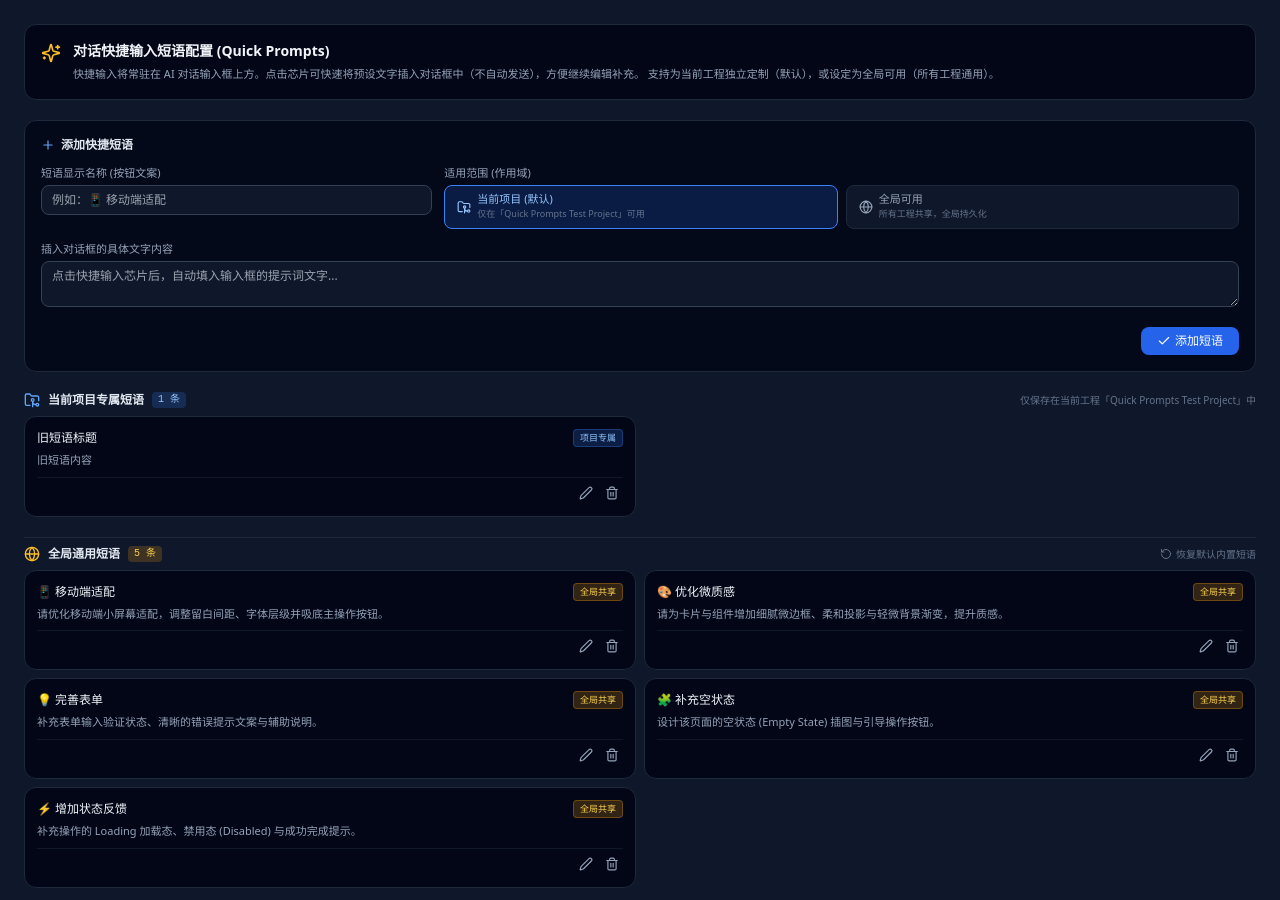
it: Chat Quick Prompts (对话快捷输入与分级配置) › CHK-F-06: 修改与删除快捷短语
The width and height of the screenshot is (1280, 900).
What coordinates should you click on to do the following:
click the 1st button titled "删除该短语"
I would click on:
 (612, 492)
Its box is [601,482,623,504].
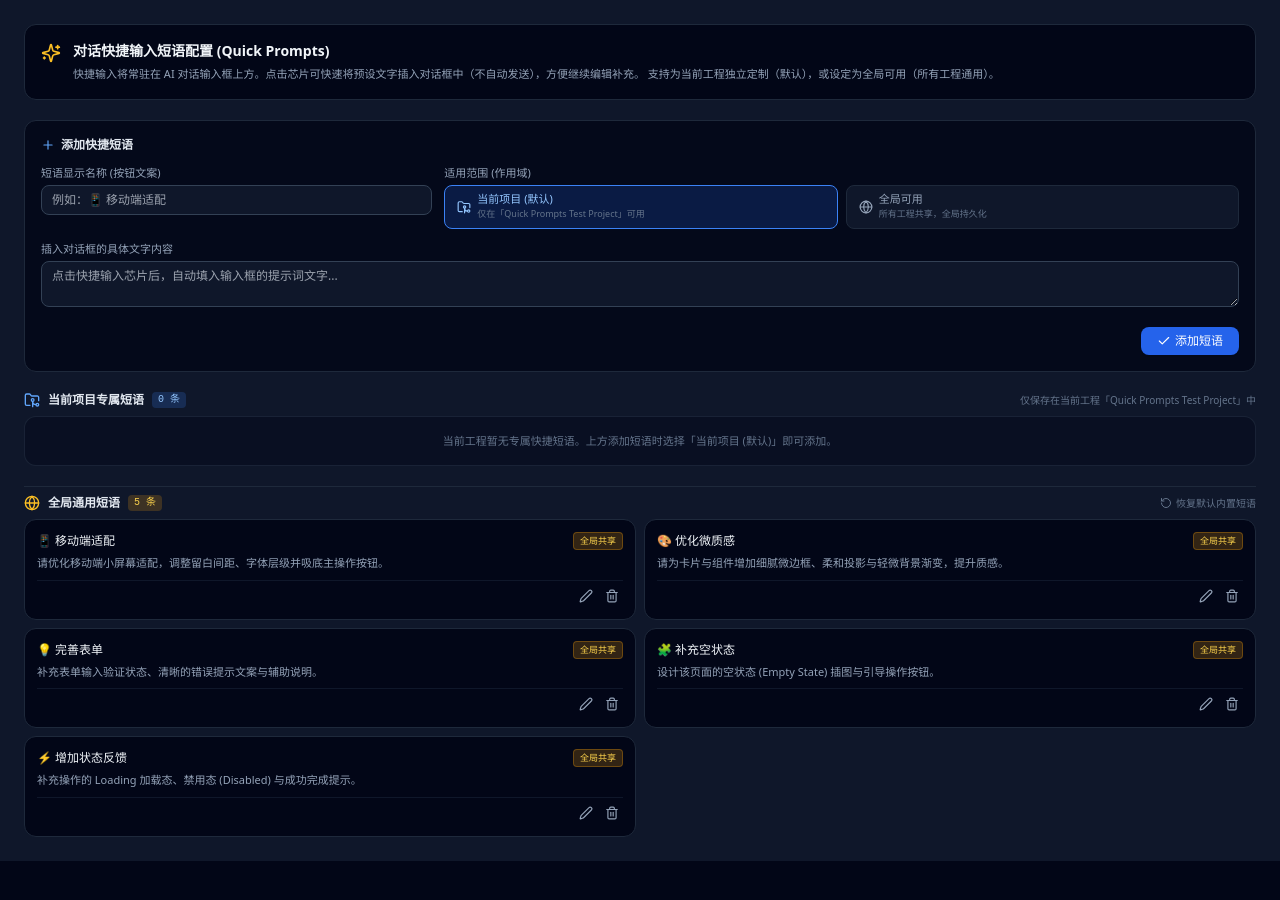
Now the text "旧短语标题" is gone
